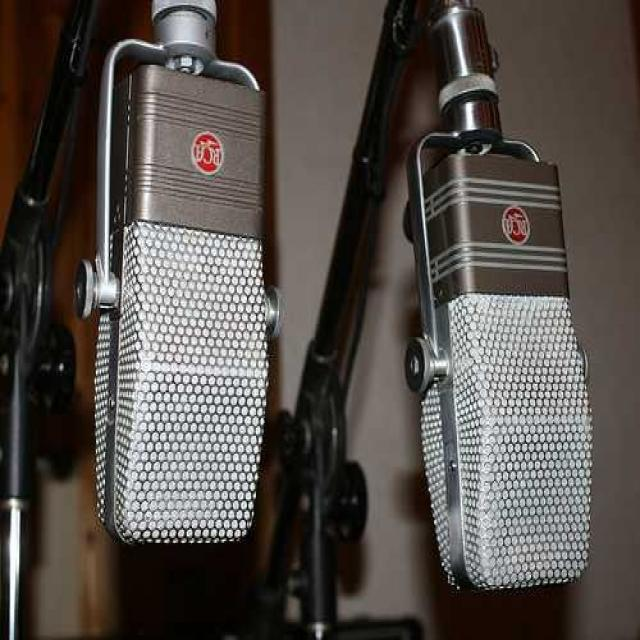microphone: (407, 4, 588, 592), (89, 11, 274, 548)
